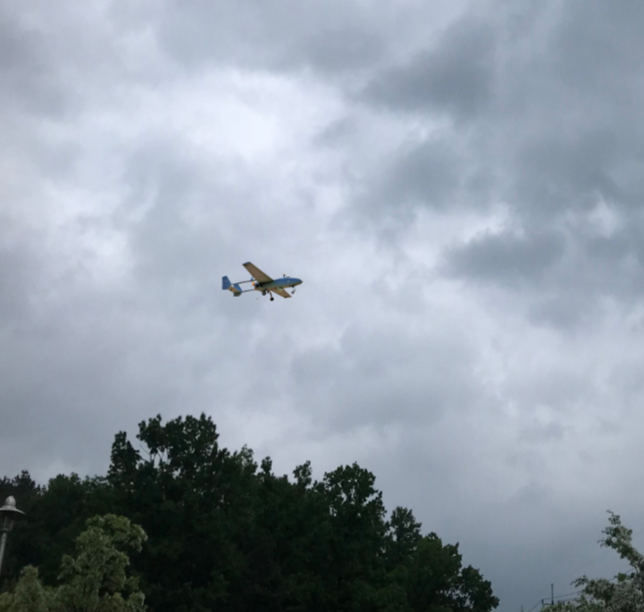military drone: (221, 261, 303, 301)
